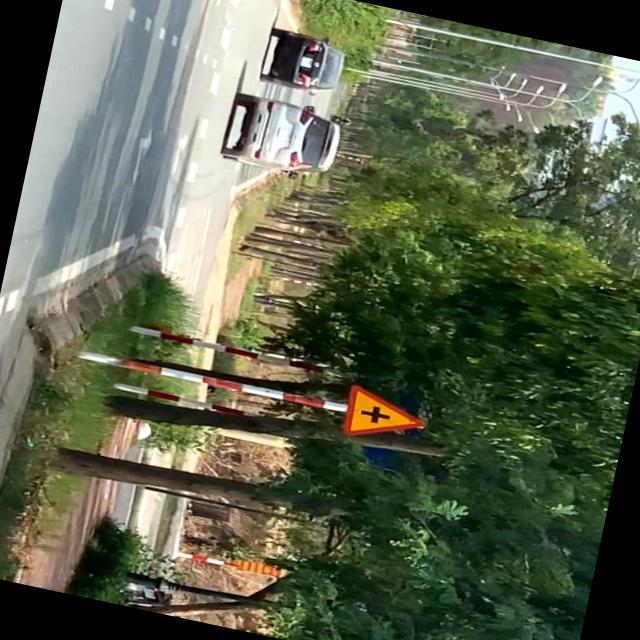W-205a: (339, 382, 428, 448)
